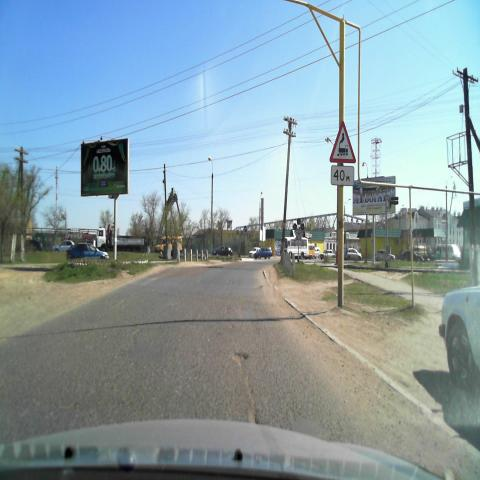1_2: (329, 122, 356, 164)
